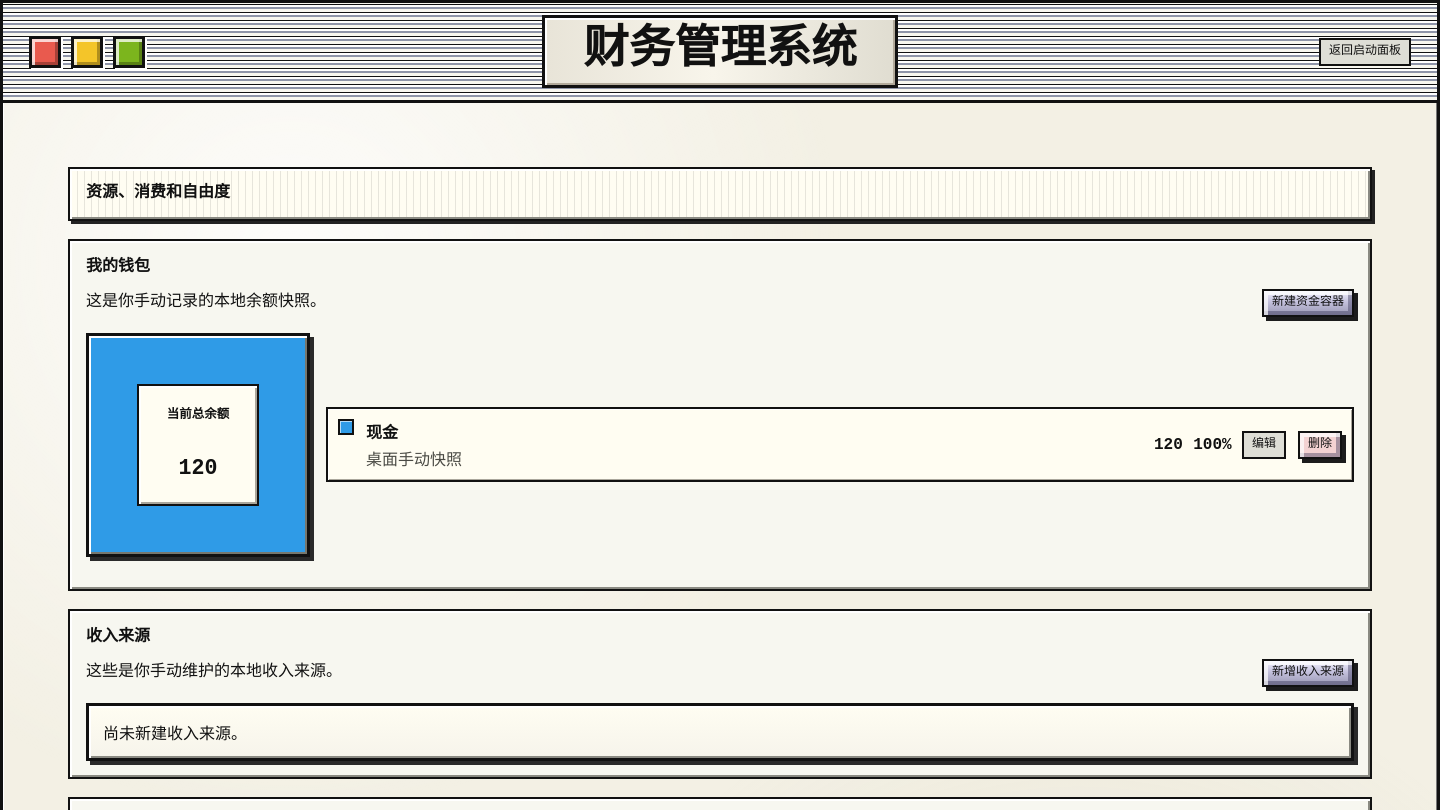
Test: FinanceManagementPanel › lets the user delete a wallet container
Click the button with aria-label "删除现金": (1320, 445) [1298,431,1342,459]
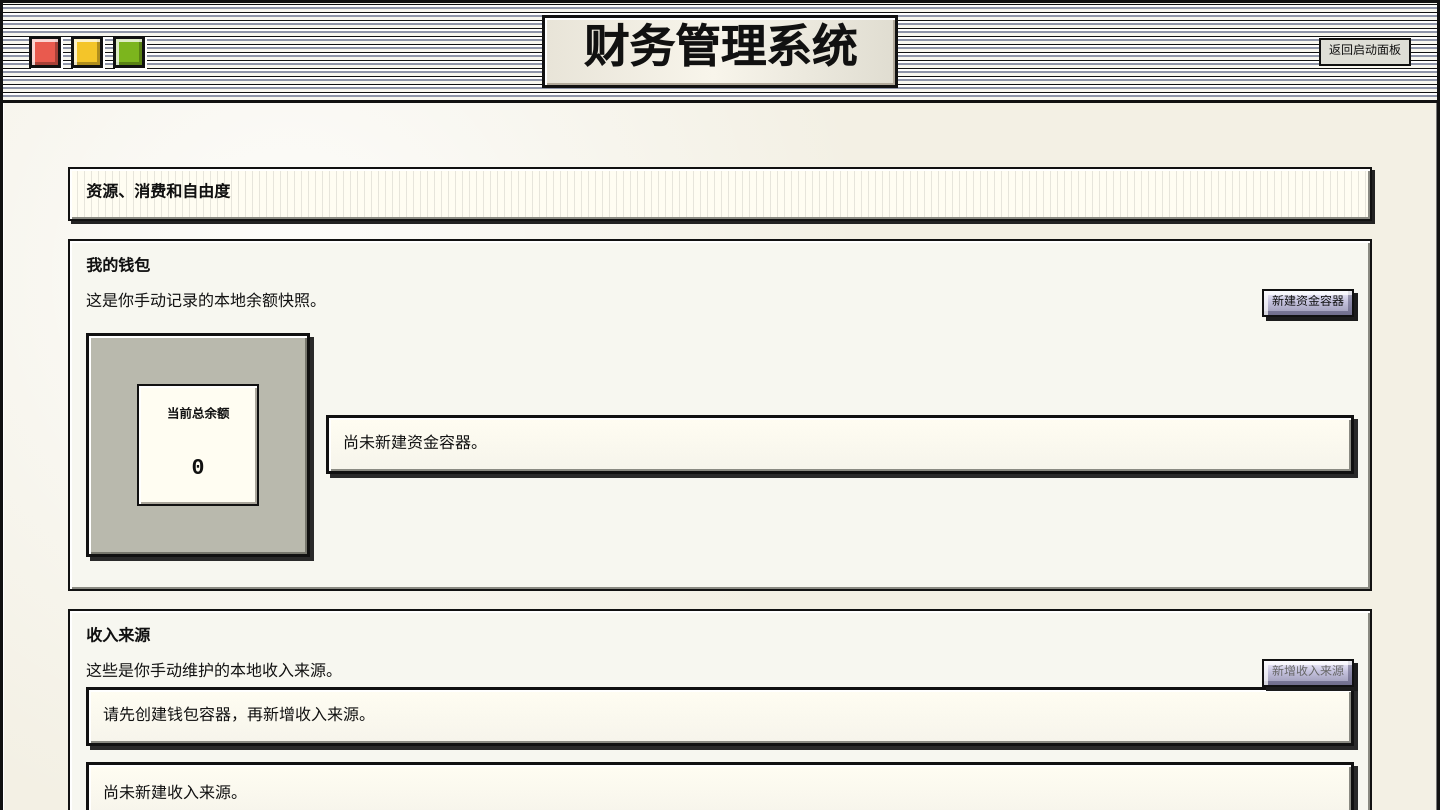
Check: the element "我的钱包" shows "0", box [192,456,204,480]
Check: the text "现金" is gone
